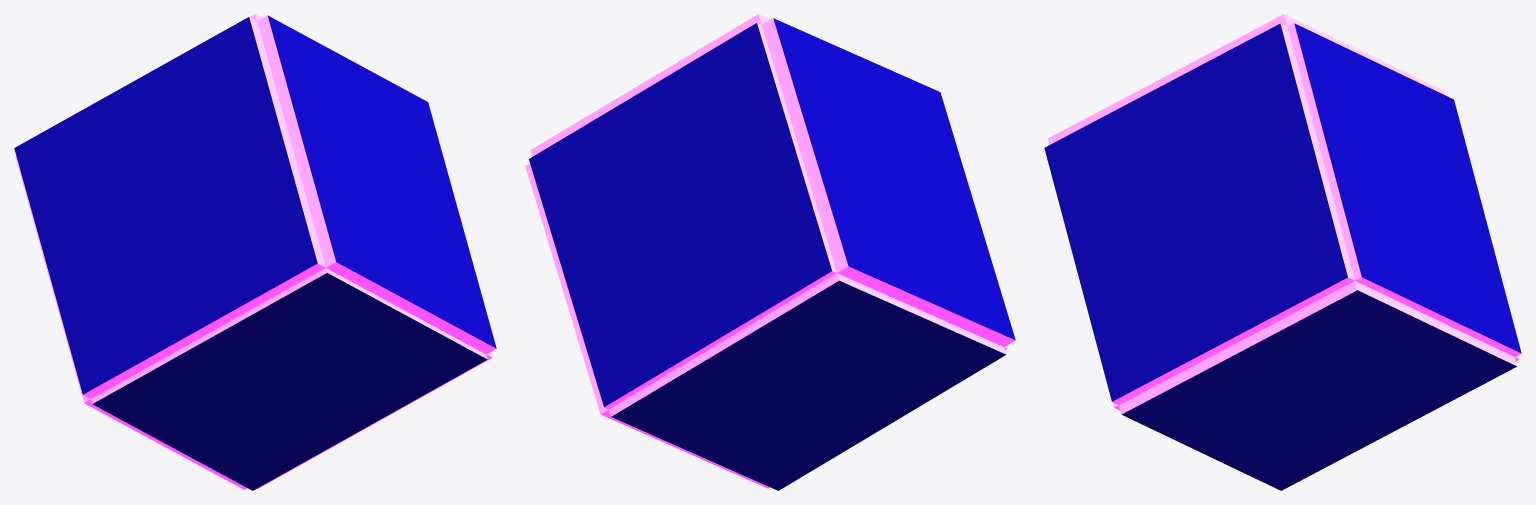
The picture shows the model from 3 angles, left to right: view 1: azimuth 30°, elevation 25°; view 2: azimuth 150°, elevation 25°; view 3: azimuth 270°, elevation 25°; orthographic projection.
Parts seen in each view (by area): view 1: Cube; view 2: Cube; view 3: Cube.
Part boxes in pixels (x1,y1,x2,y2): Cube: [14, 14, 496, 490]; Cube: [525, 14, 1015, 490]; Cube: [1044, 14, 1521, 490].
Size of what is drawn, in the model's own units: 3.28 by 3.57 by 3.26.
